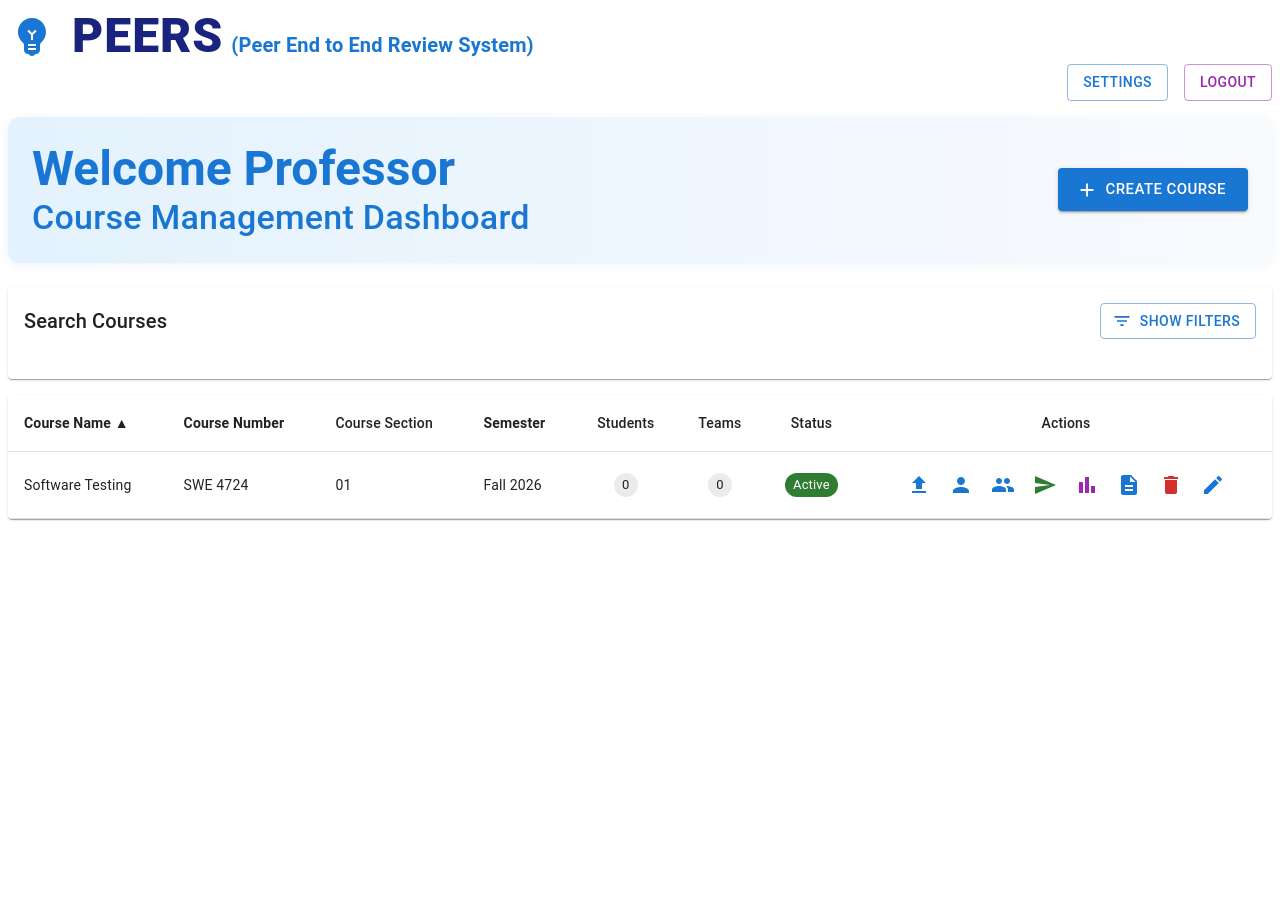
Test: CourseManagement › edits a course and displays the saved name
Click the button titled "Edit Course": (1213, 485) [1196,468,1230,502]
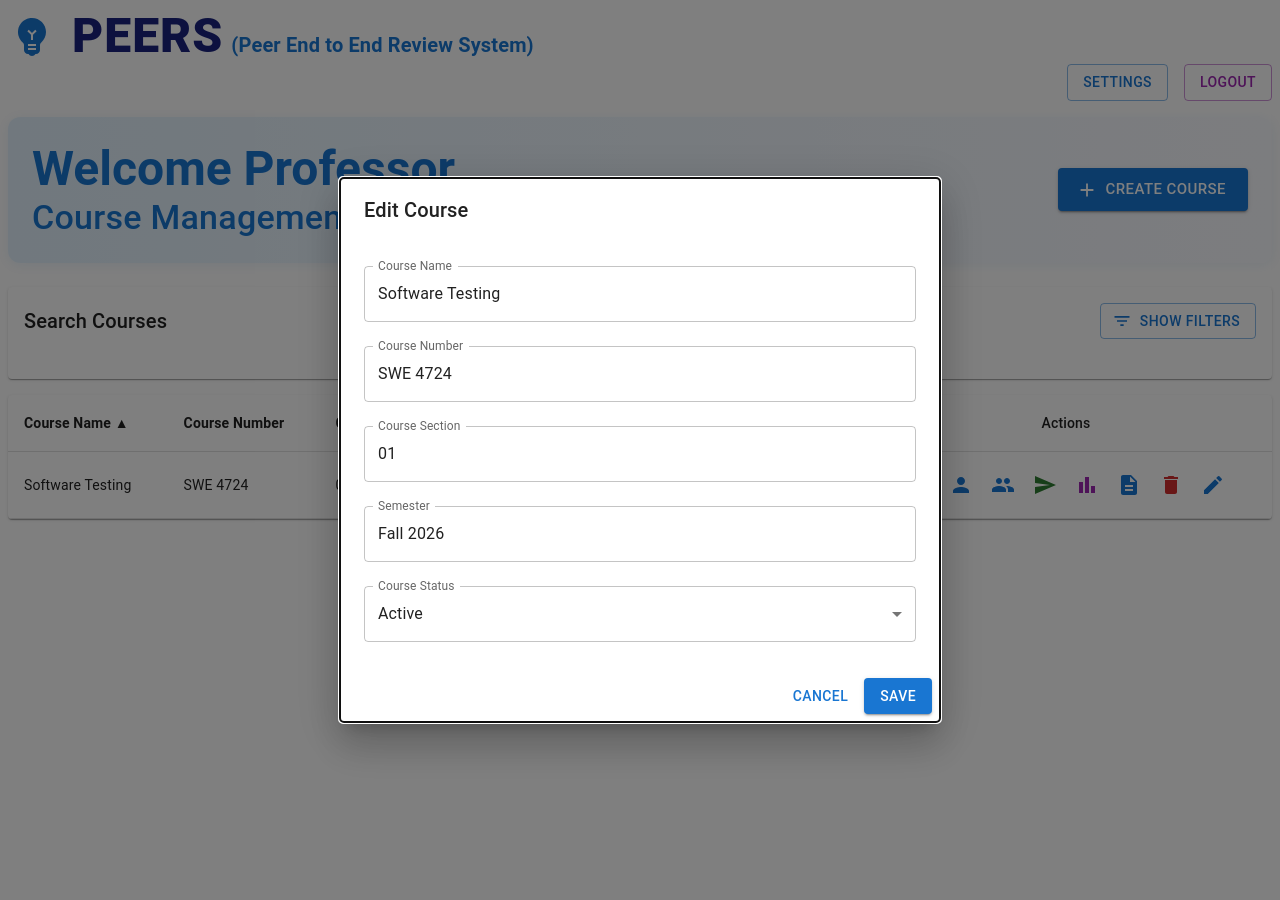
Replace the text in the field labelled "Course Name" with "Updated Course": (640, 294) [364,266,916,322]
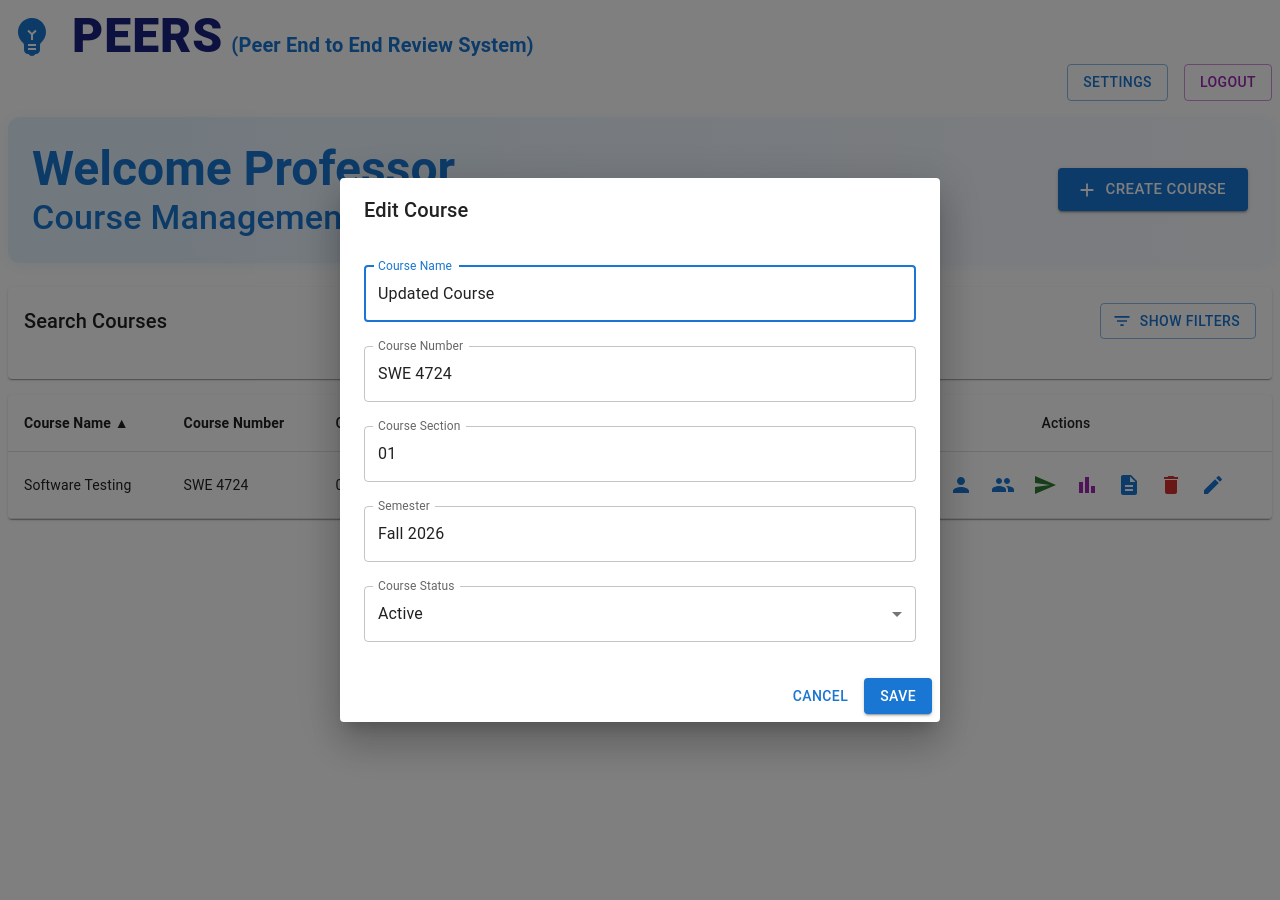
Click the button "Save": (898, 696) [864,678,932,714]
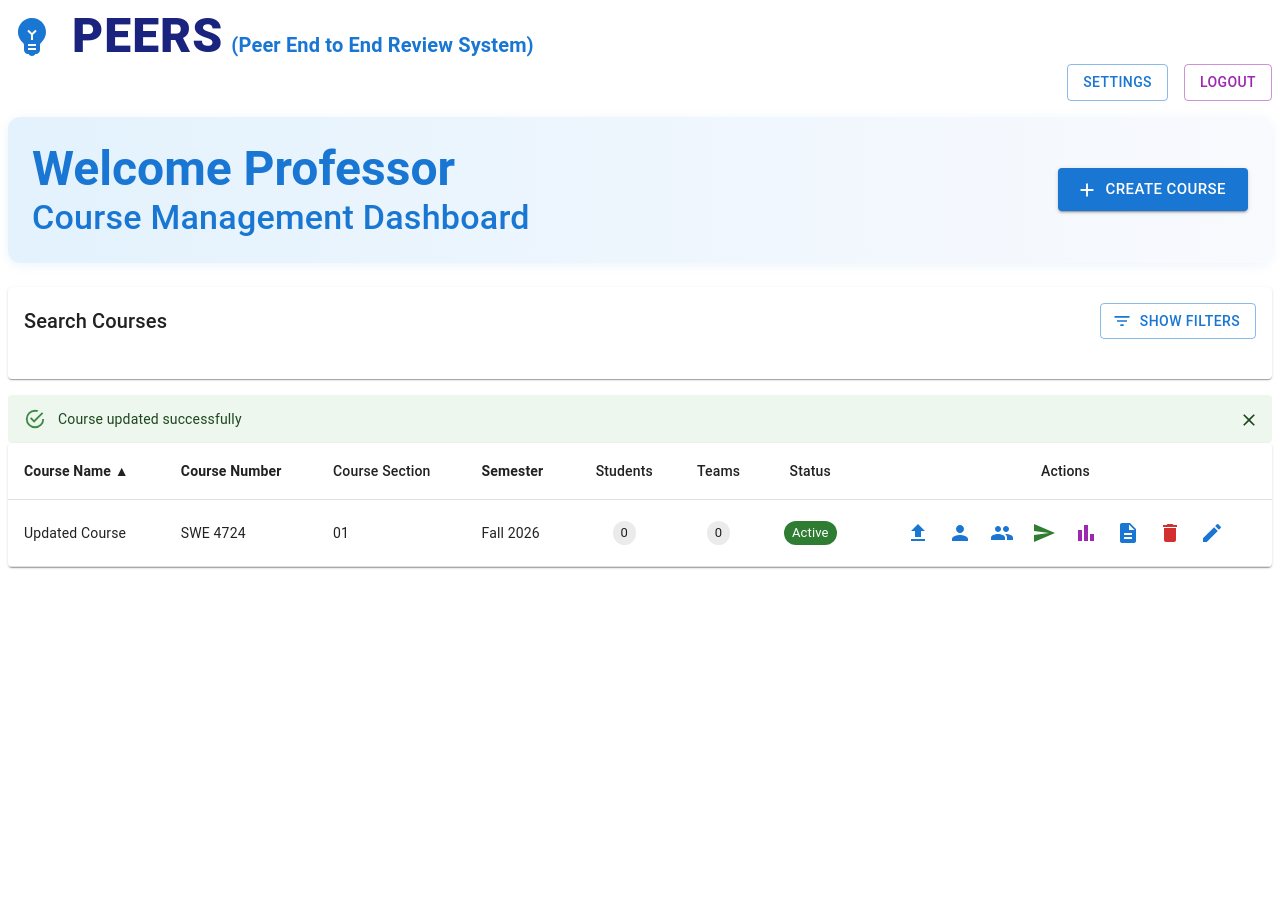
Check: the cell "Updated Course" is shown, box [8,500,165,566]
Check: the cell "Software Testing" is gone
